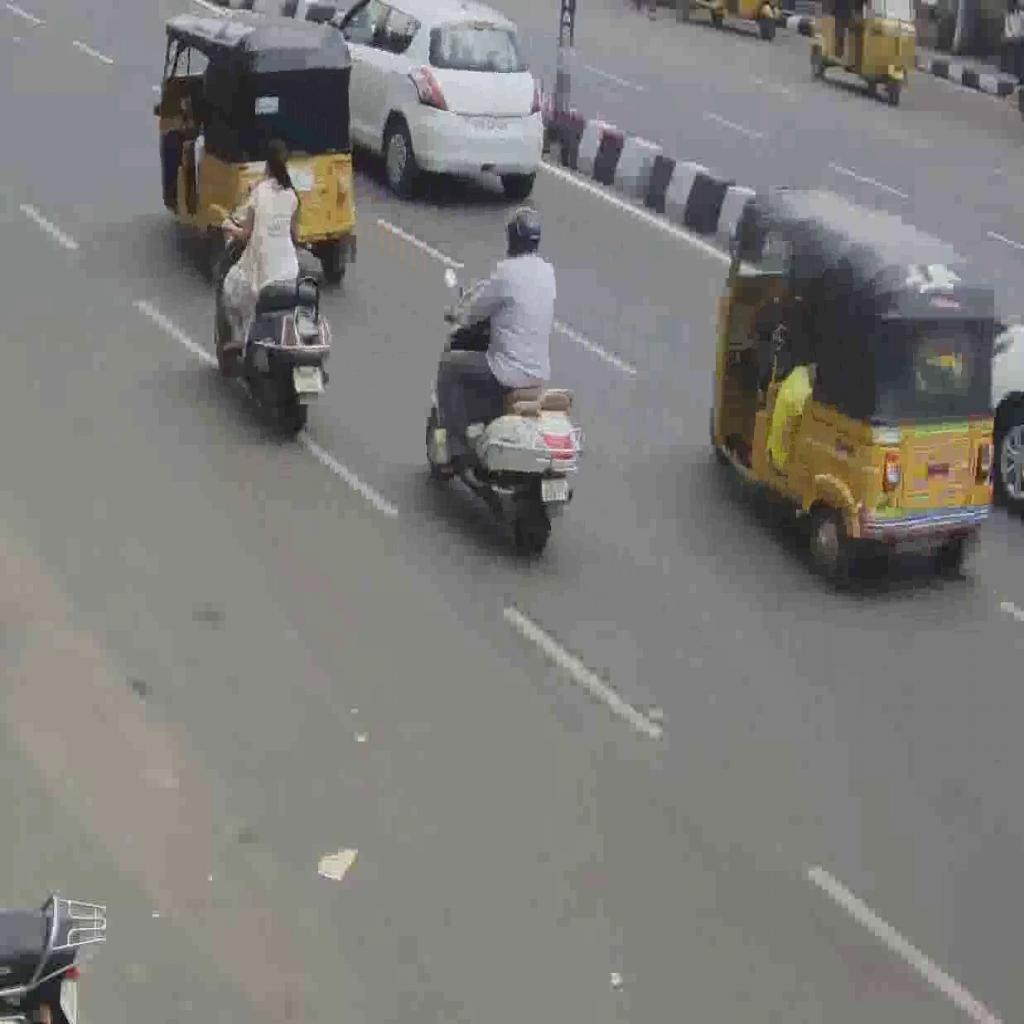helmet: (424, 278, 585, 560), (206, 202, 334, 436)
